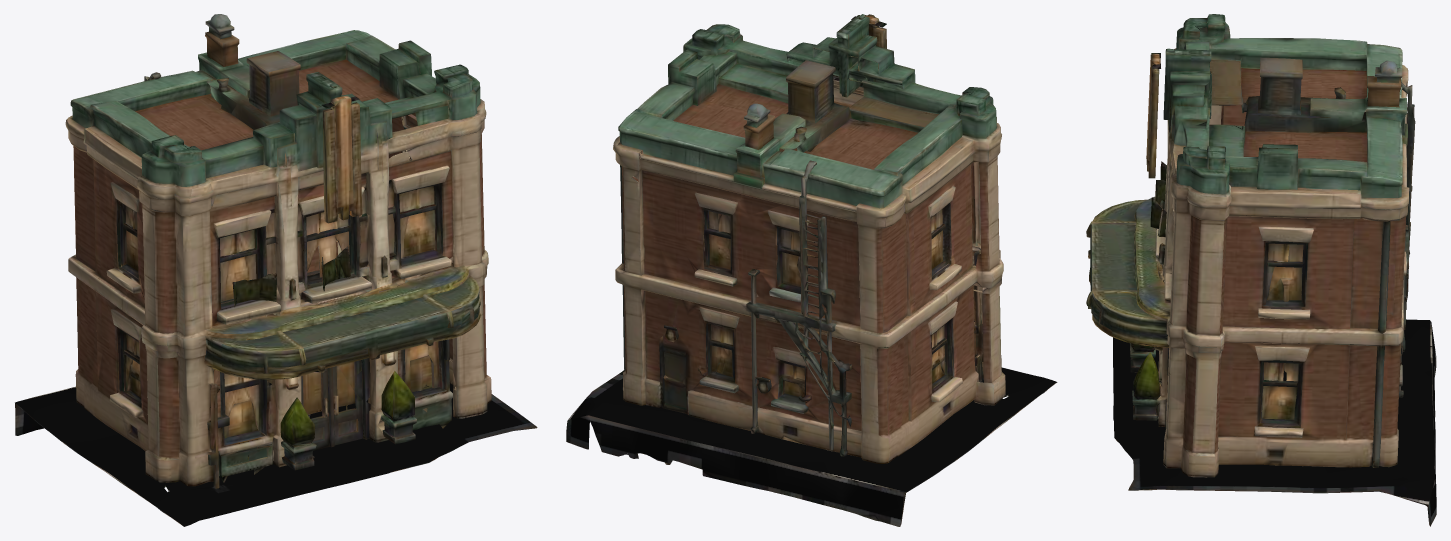
File: candidate.glb
3 renders of one model, left to right at view 1: azimuth 30°, elevation 25°; view 2: azimuth 150°, elevation 25°; view 3: azimuth 270°, elevation 25°, orthographic. The views are drawn at different scales.
Visible parts, largest first — view 1: expansion__hotel_2__native_mobile; view 2: expansion__hotel_2__native_mobile; view 3: expansion__hotel_2__native_mobile.
Part boxes in pixels (x1,y1,x2,y2): expansion__hotel_2__native_mobile: [15, 14, 537, 526]; expansion__hotel_2__native_mobile: [566, 14, 1057, 526]; expansion__hotel_2__native_mobile: [1086, 14, 1436, 526].
Bounding box in the file's own units: 0.9522 × 1 × 0.8092.
Materials: 1 (1 with a texture image).
